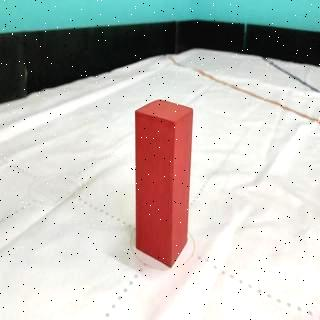redbox: (132, 98, 194, 268)
